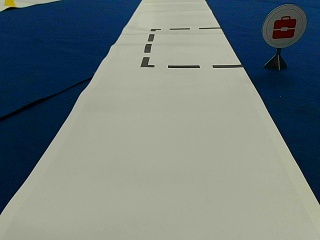company: (262, 4, 307, 47)
